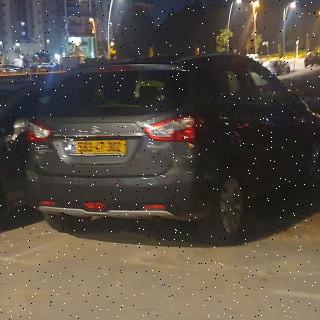LicensePlate: (76, 141, 126, 153)
